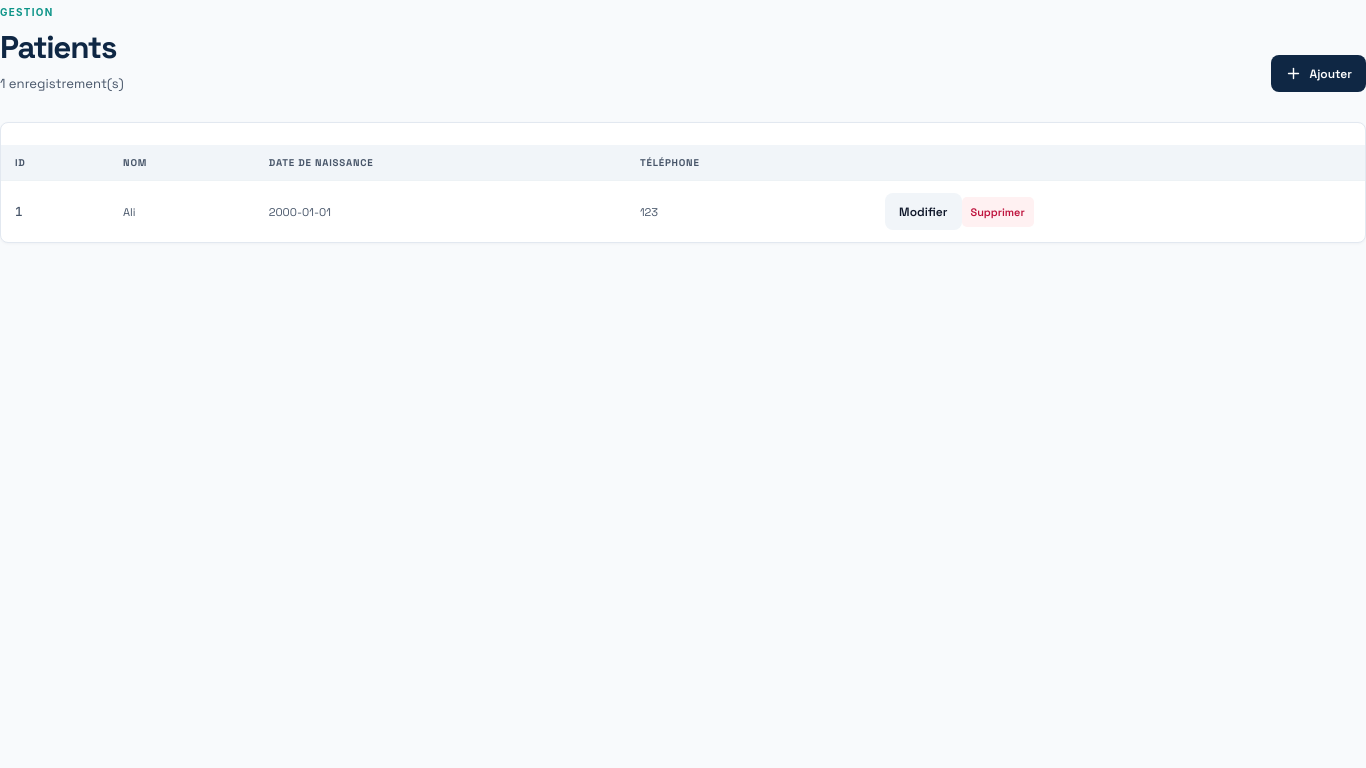
Test: creates a record (nullable date is sent as null)
The width and height of the screenshot is (1366, 768).
Later steps or results of the test are not shown.
Expected: the text "Ali" is shown, [109,180,255,242]
Click the button "Ajouter".
click(1318, 74)  # box [1271,55,1365,92]
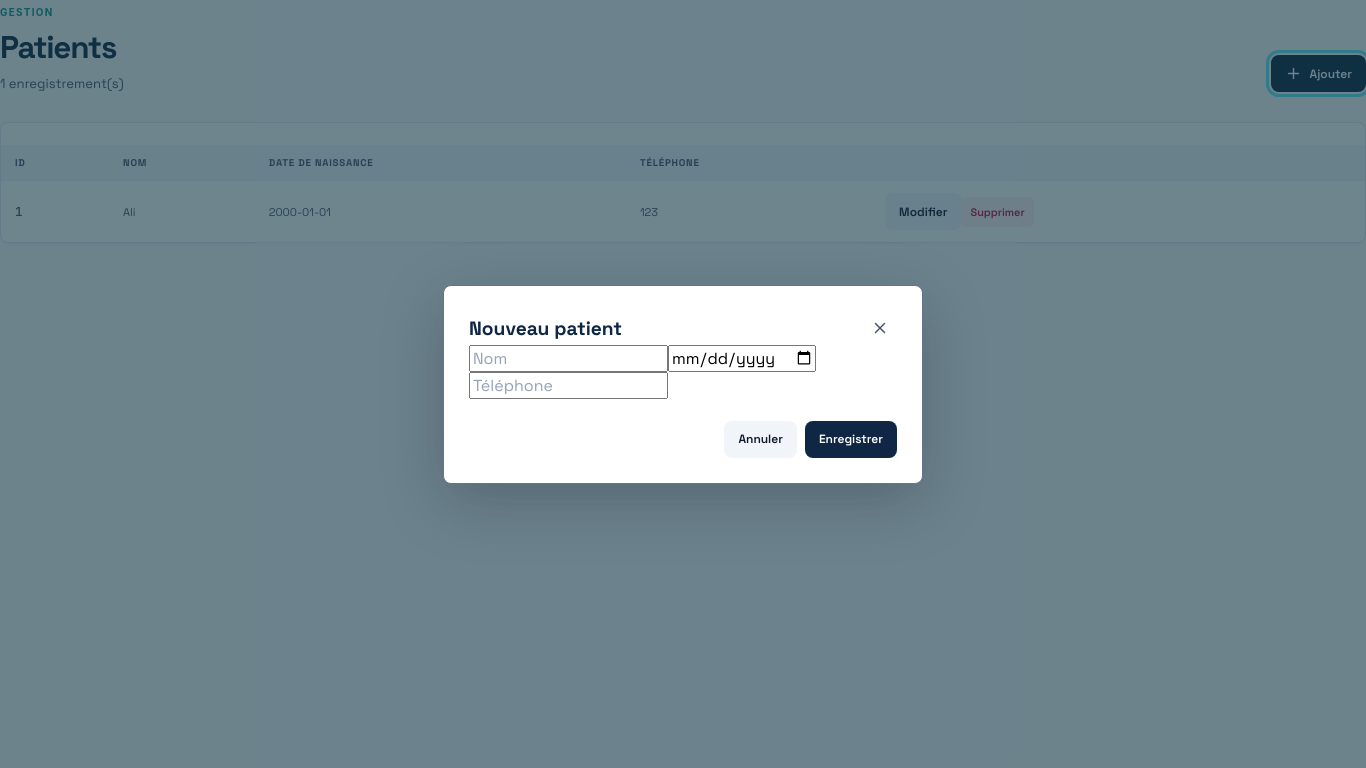
Expected: the heading "Nouveau patient" is shown, [469,316,622,340]
